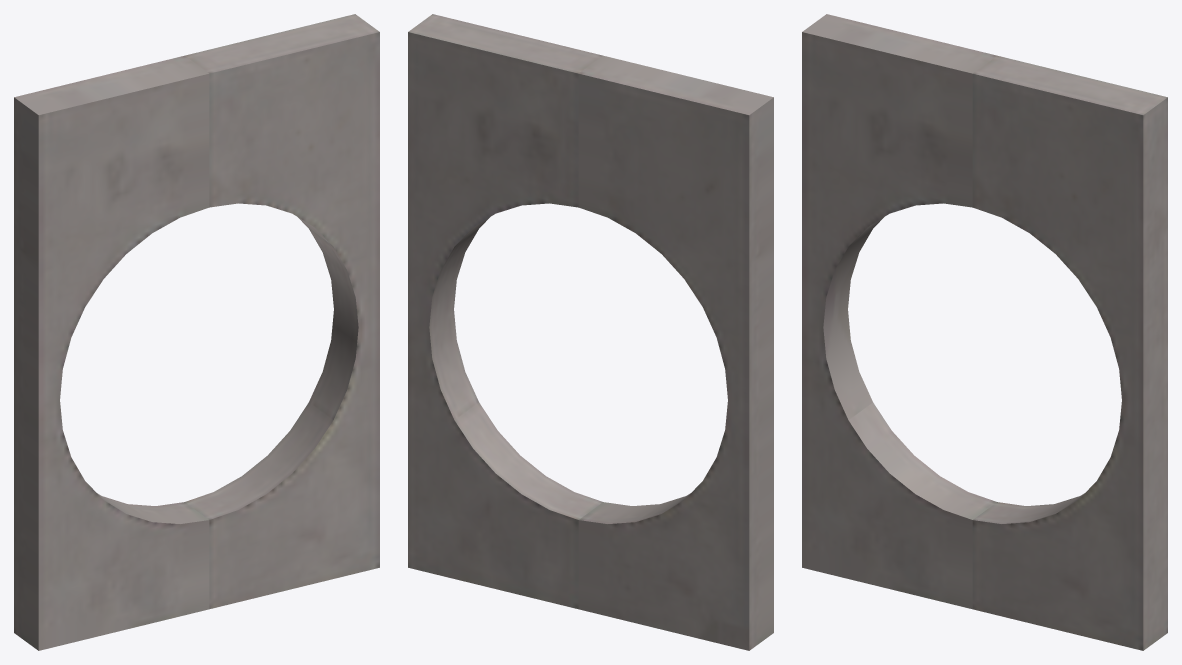
3 views of the same model, side by side, from view 1: azimuth 30°, elevation 25°; view 2: azimuth 150°, elevation 25°; view 3: azimuth 330°, elevation 25° (orthographic).
Parts seen in each view (by area): view 1: Cube.017, Cube.015; view 2: Cube.017, Cube.015; view 3: Cube.015, Cube.017.
Boxes of the visible parts, left/top/right/bottom form: Cube.017: left=14, top=55, right=209, bottom=650; Cube.015: left=185, top=14, right=379, bottom=609; Cube.017: left=578, top=55, right=773, bottom=650; Cube.015: left=408, top=14, right=602, bottom=609; Cube.015: left=972, top=55, right=1167, bottom=650; Cube.017: left=802, top=14, right=996, bottom=609.
Size of the model in its own units: 3.2 by 4.8 by 0.4.
Materials: 1 (1 with a texture image).
